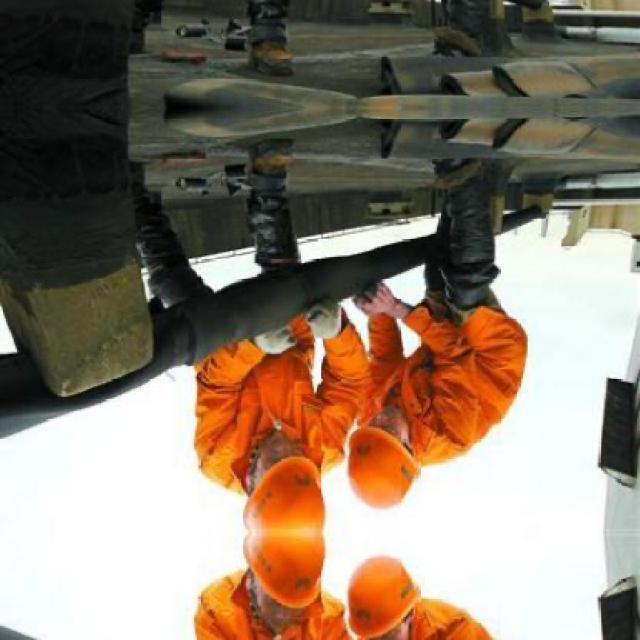con casco: (297, 432, 422, 512), (235, 439, 327, 530)
